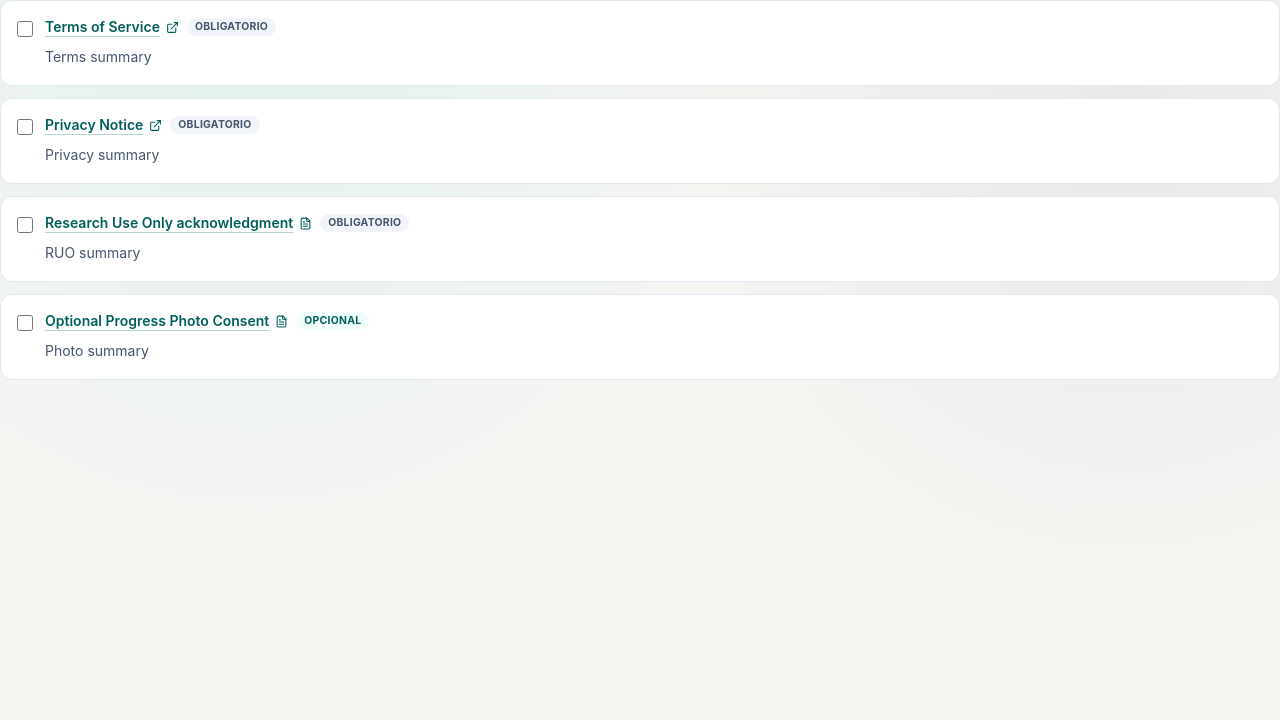
Scenario: ConsentChecklist › keeps legal document controls independent from checkboxes in es
What coordinates should you click on to do the following:
click the button "Research Use Only acknowledgment"
I would click on:
 (179, 223)
Its box is [45,213,312,233].
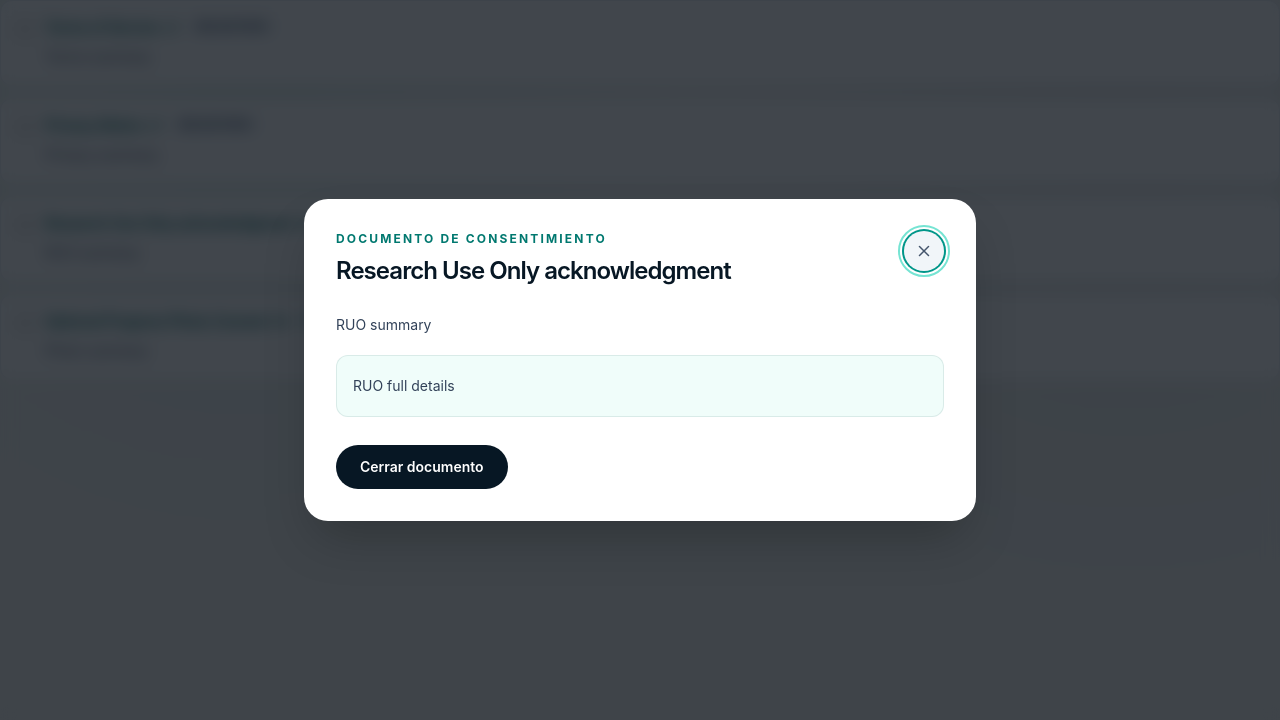
Check: the text "Opcional" is shown, box [296,312,369,330]
Check: the dialog is shown
Check: the text "RUO full details" is shown, box [336,355,944,417]
